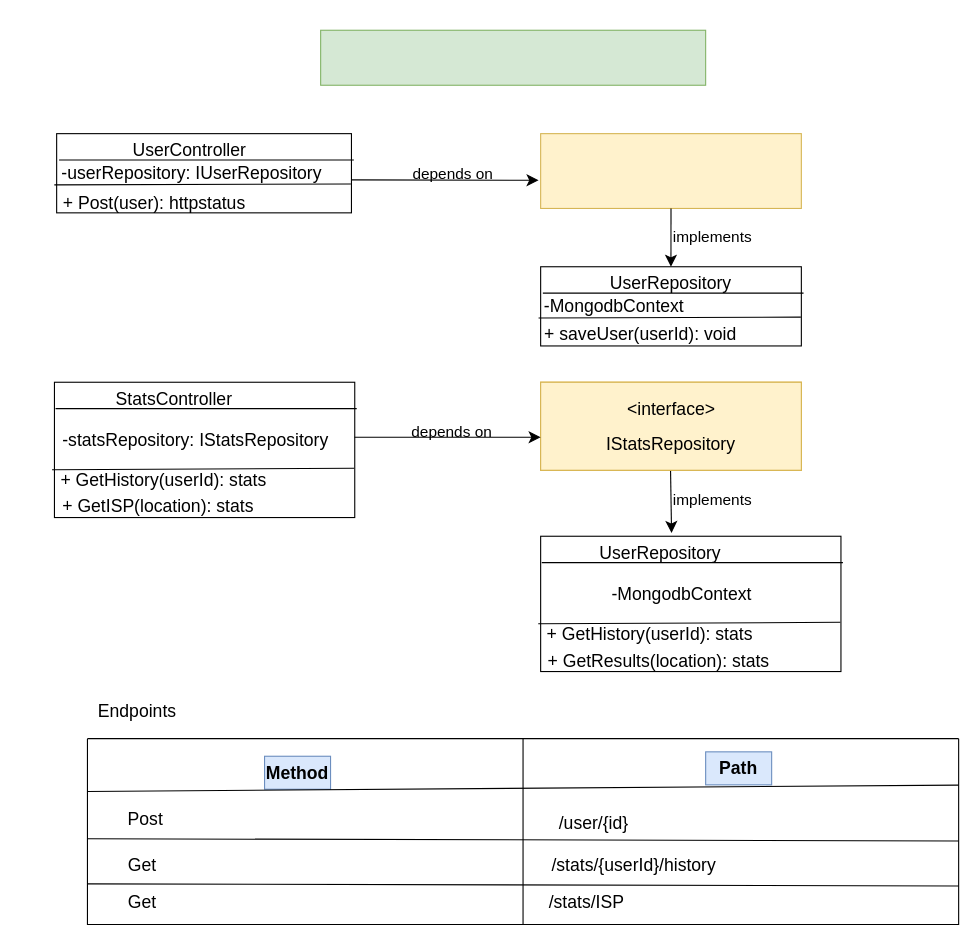
Image size: 979x945. Some labels were removed from this diagram. The shapes that lost their labels are listed below. From the top down, each one's centre as x and y in pixels, then its label:
(x=513, y=57): myInternetSpeed
(x=670, y=170): <interface> IUserRepository
